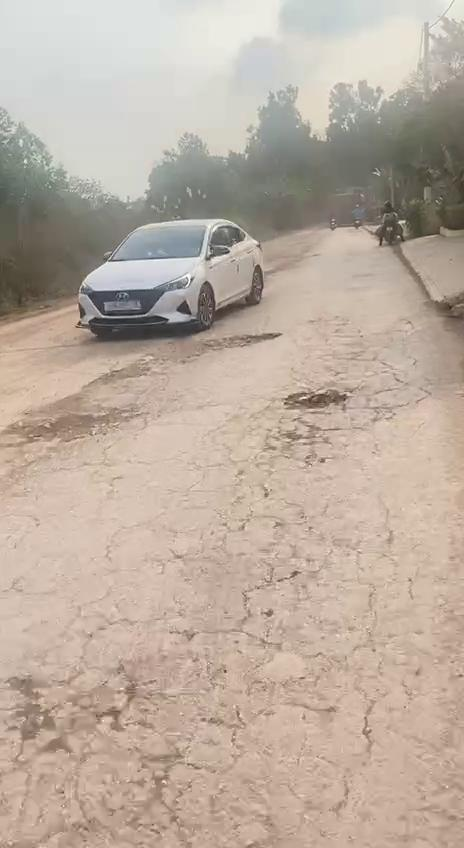pothole: (282, 384, 360, 413)
